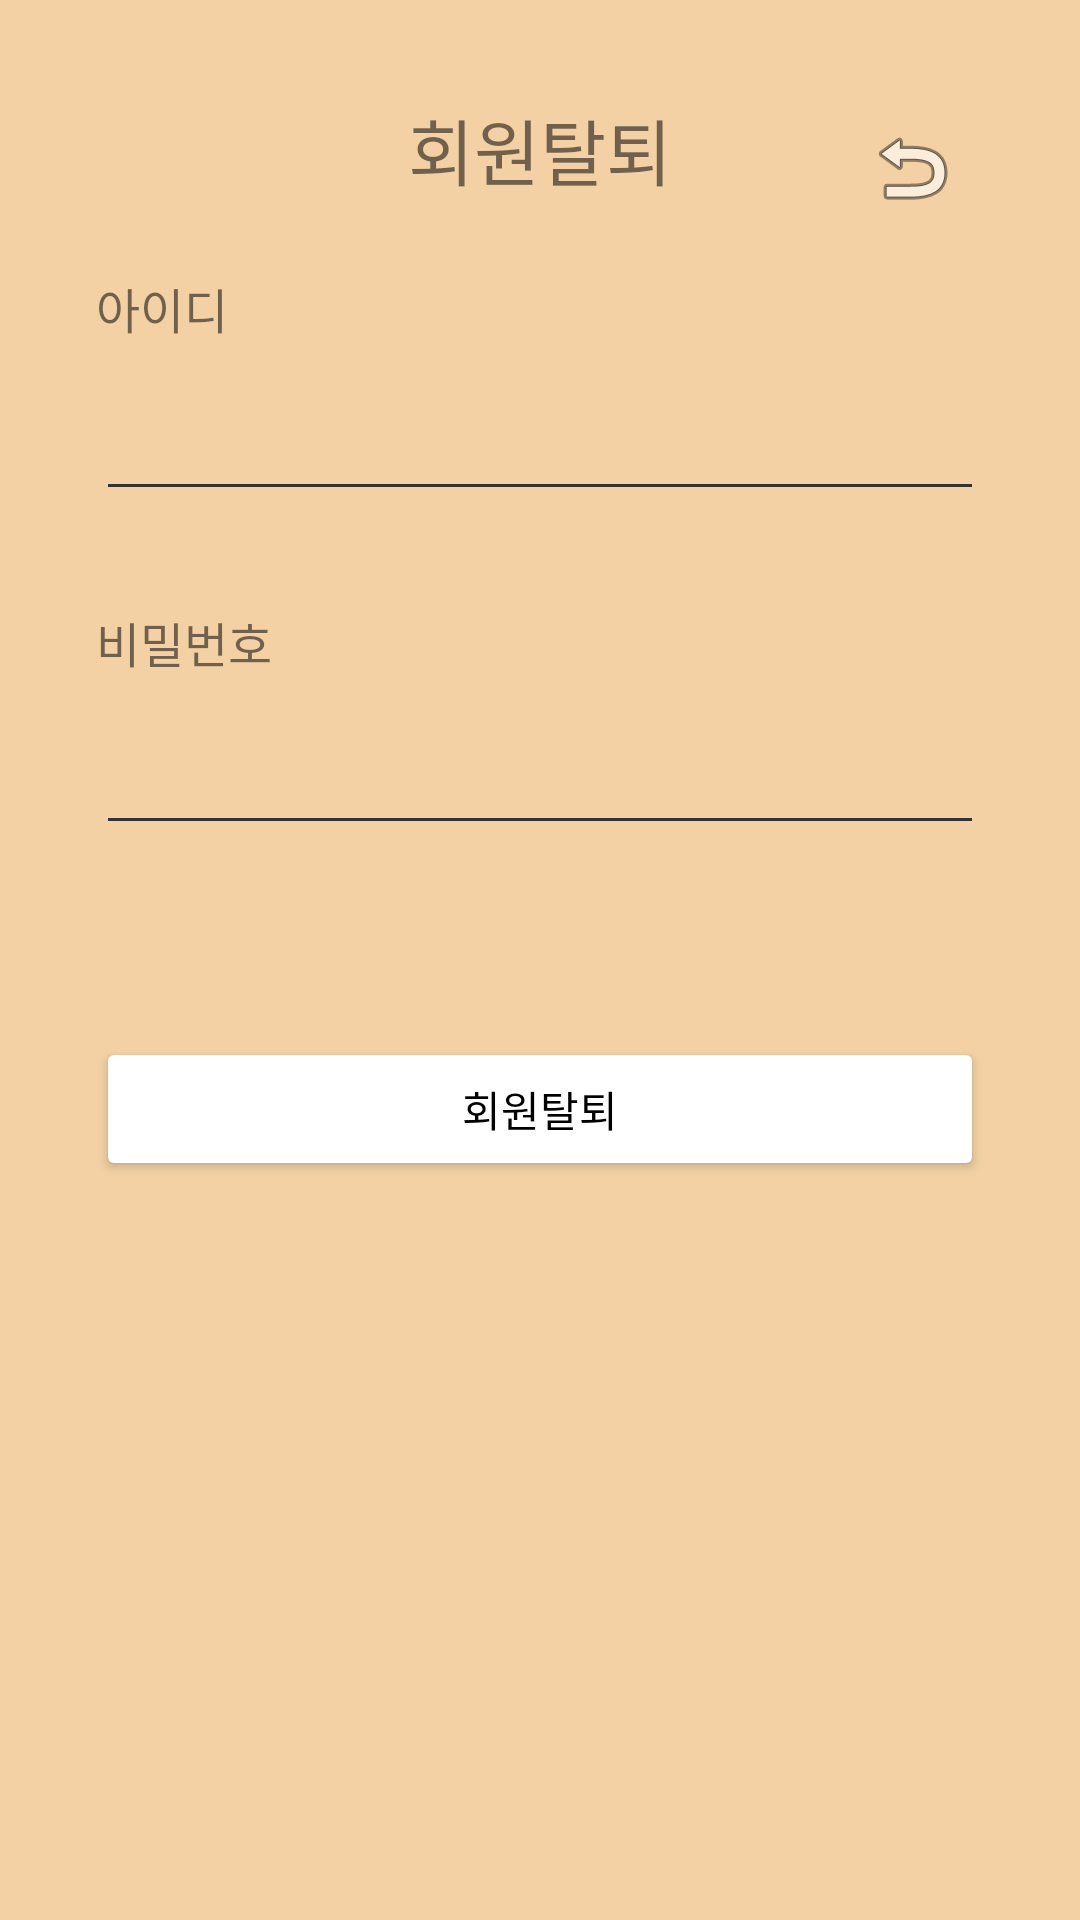

Screen size 1080x1920. Icon name, then its center in pixels as [x,y]:
뒤로가기: [913,168]
